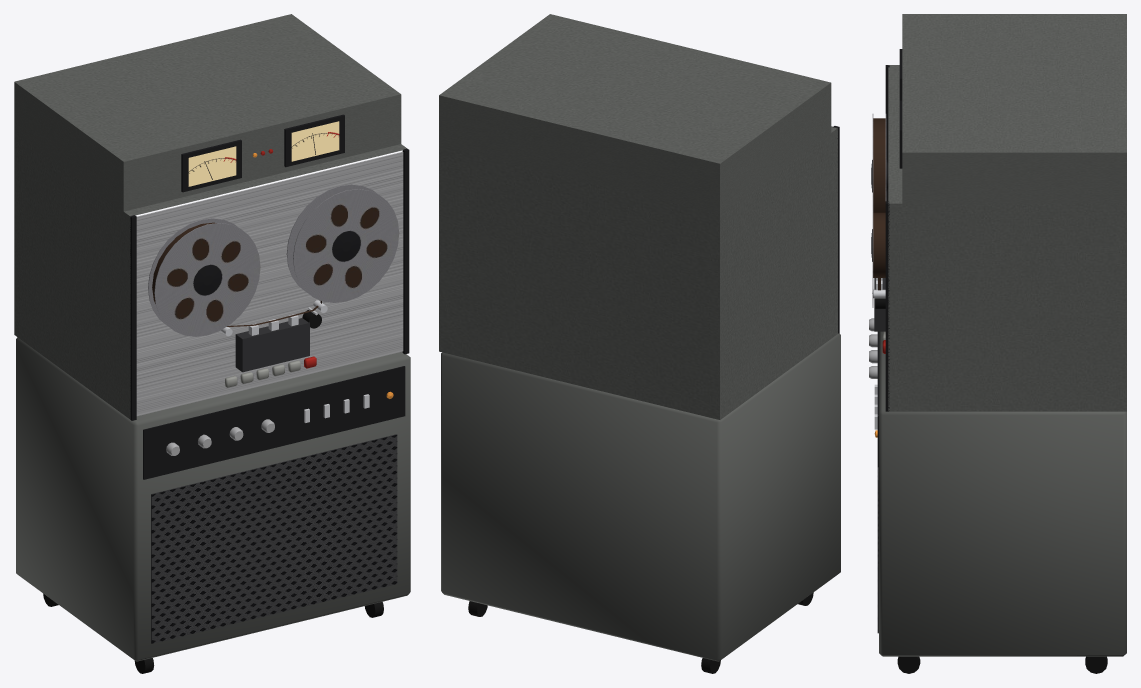
Rendered from reel-to-reel.glb.
3 views of the same model, side by side, from view 1: azimuth 30°, elevation 25°; view 2: azimuth 150°, elevation 25°; view 3: azimuth 270°, elevation 25° (orthographic). The views are drawn at different scales.
Visible parts, largest first — view 1: reel_to_reel_L16, reel_L, reel_R; view 2: reel_to_reel_L16; view 3: reel_to_reel_L16, reel_L, reel_R.
Boxes of the visible parts, <box> form: reel_to_reel_L16: <box>14,14,410,673</box>; reel_L: <box>148,218,260,336</box>; reel_R: <box>286,184,399,302</box>; reel_to_reel_L16: <box>439,14,840,673</box>; reel_to_reel_L16: <box>869,14,1126,673</box>; reel_L: <box>871,114,887,212</box>; reel_R: <box>871,183,886,307</box>.
Size of the model in its own units: 0.7 by 1.25 by 0.55.
2 materials, 2 textured.
